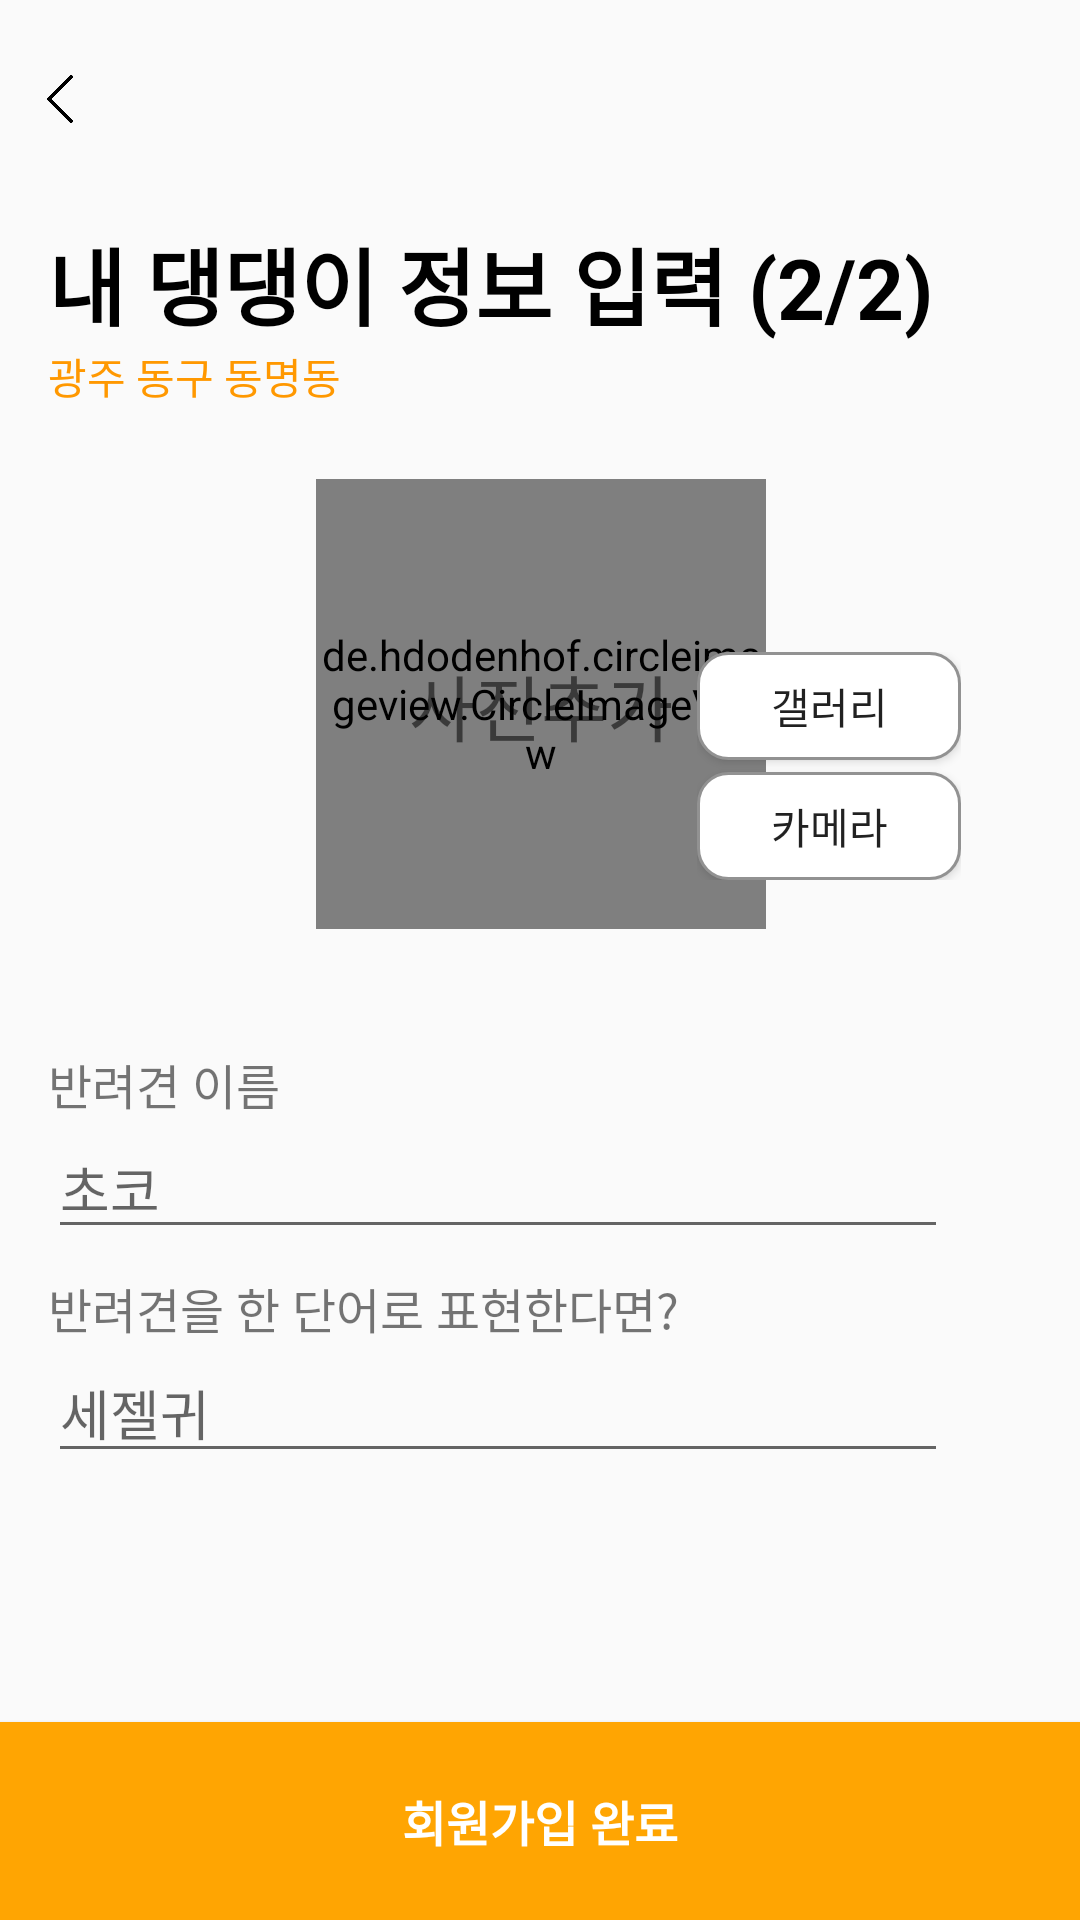

Named icons in this screenshot (1080 x 1920) and their bounding boxes, (x1, y1, x2, y2):
back: (47, 75, 73, 123)
